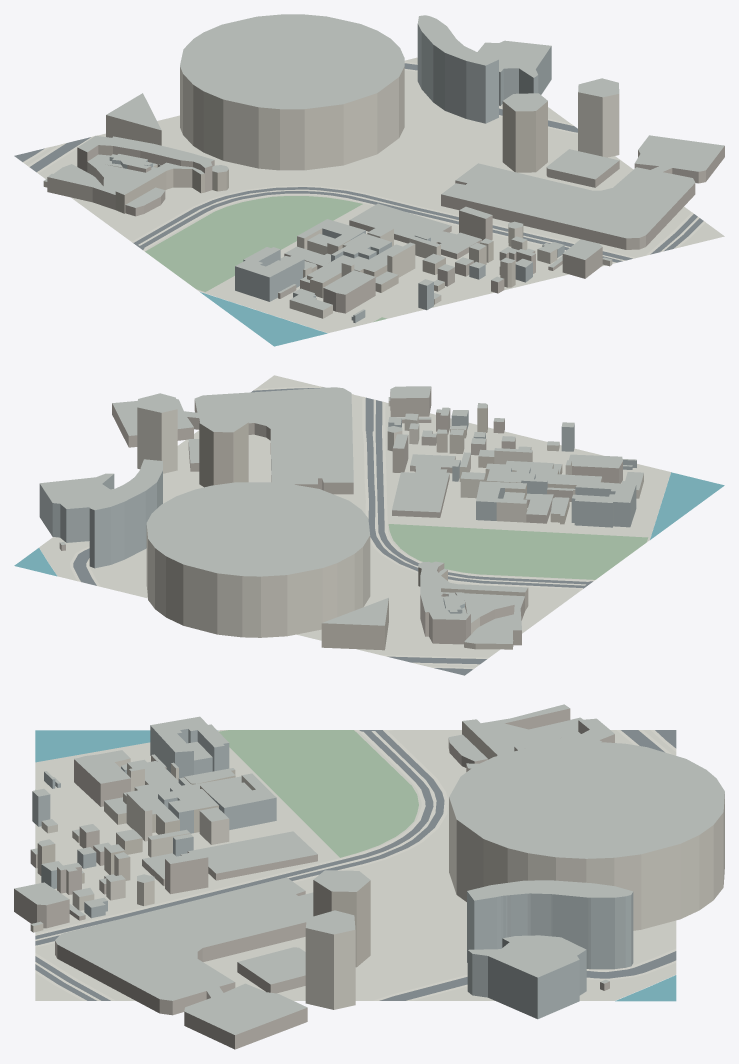
3 renders of one model, top to bottom at view 1: azimuth 30°, elevation 25°; view 2: azimuth 150°, elevation 25°; view 3: azimuth 270°, elevation 25°, orthographic. The views are drawn at different scales.
Visible parts, largest first — view 1: city; view 2: city; view 3: city.
Boxes of the visible parts, bbox=[...] form: city: bbox=[14, 14, 724, 346]; city: bbox=[14, 375, 724, 675]; city: bbox=[14, 704, 724, 1049].
Bounding box in the file's own units: 603 × 65.18 × 555.
